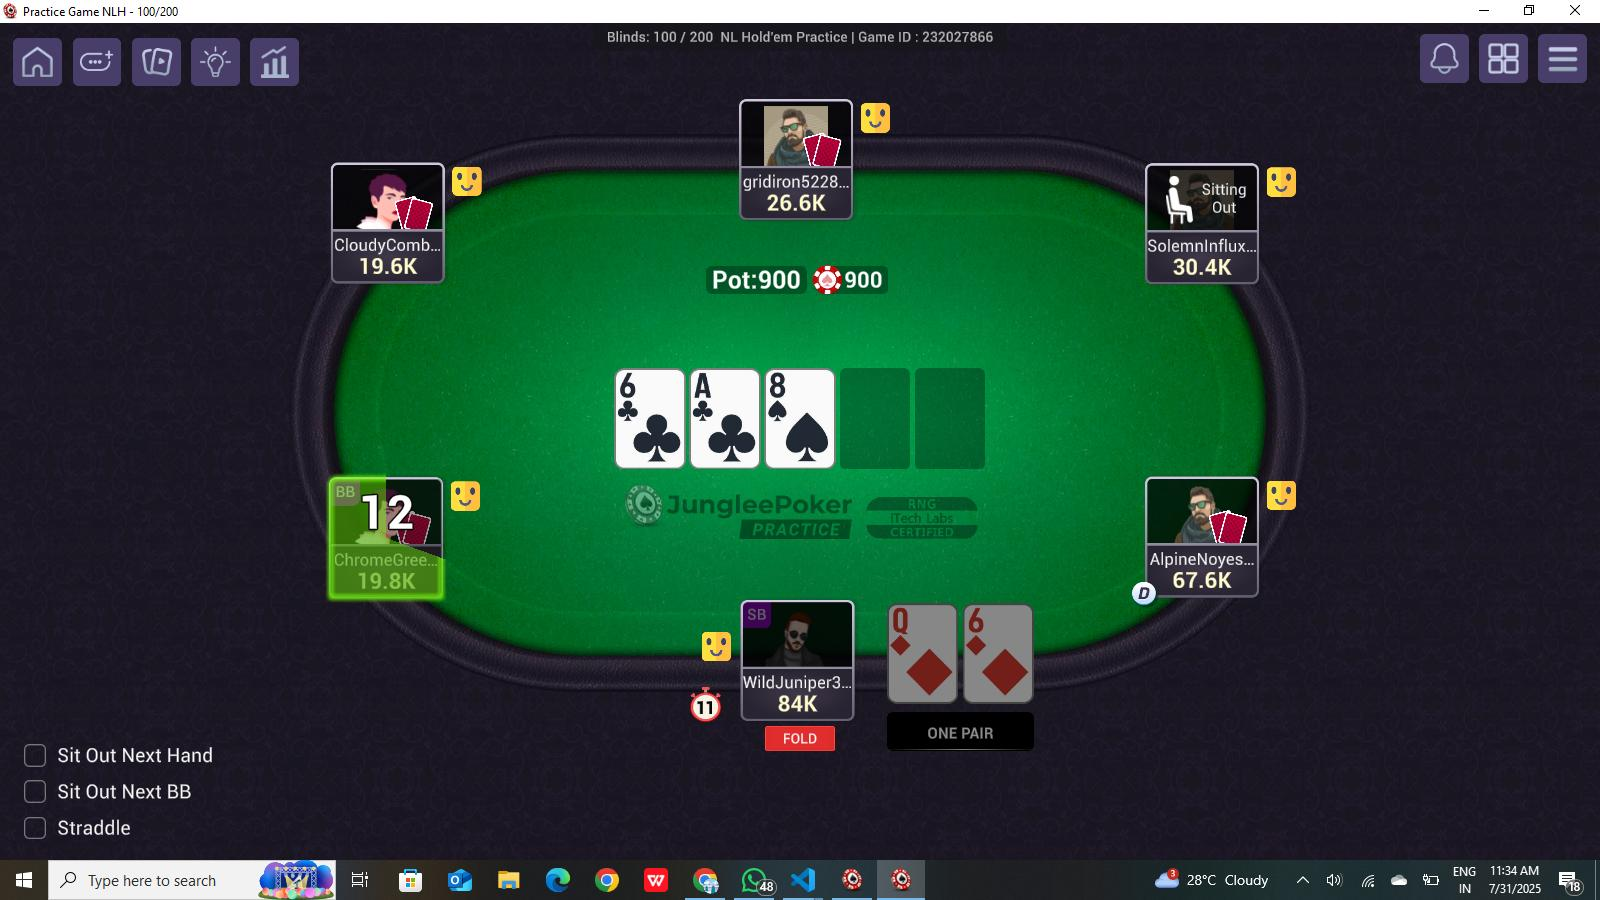card1_rank: (890, 602, 952, 644)
card1_suite_diamond: (904, 636, 954, 699)
card2_rank: (960, 605, 1035, 646)
card2_suite_diamond: (980, 641, 1032, 701)
flop1_rank: (616, 365, 689, 405)
flop1_suite_club: (632, 401, 680, 464)
flop2_rank: (690, 368, 758, 409)
flop2_suite_club: (704, 409, 758, 468)
flop3_rank: (764, 365, 833, 405)
flop3_suite_spades: (784, 401, 831, 464)
game_id: (858, 22, 1004, 55)
my_stack: (740, 689, 857, 718)
position_BB: (332, 477, 363, 512)
position_SB: (738, 601, 774, 636)
total_pot: (704, 258, 893, 298)
villian1_name: (336, 541, 436, 576)
villian1_stack: (340, 563, 438, 595)
villian2_name: (327, 229, 442, 256)
villian2_stack: (332, 245, 446, 279)
villian3_name: (738, 168, 855, 195)
villian3_stack: (742, 192, 852, 222)
villian4_name: (1143, 230, 1260, 259)
villian4_stack: (1154, 253, 1257, 284)
villian5_name: (1146, 545, 1258, 571)
villian5_stack: (1152, 567, 1256, 600)
